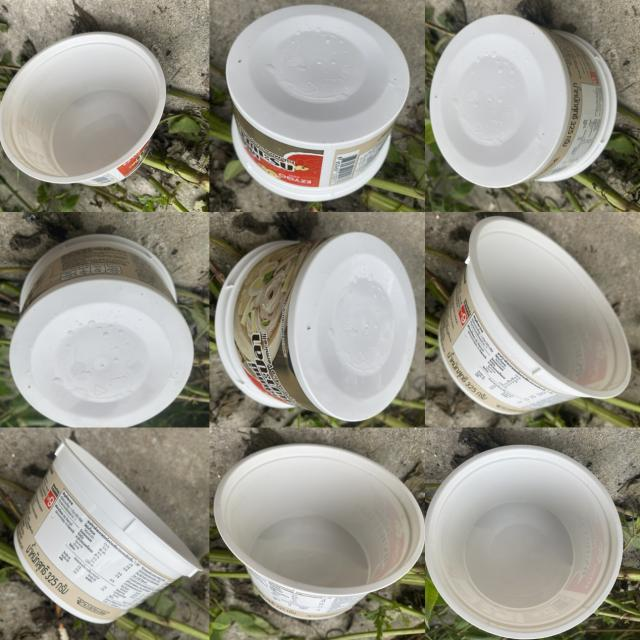plastik: (426, 445, 623, 639), (215, 233, 417, 421), (438, 217, 630, 414), (215, 444, 425, 619), (226, 6, 409, 201), (9, 234, 193, 427), (14, 440, 201, 623), (430, 15, 617, 187), (0, 32, 166, 186)
